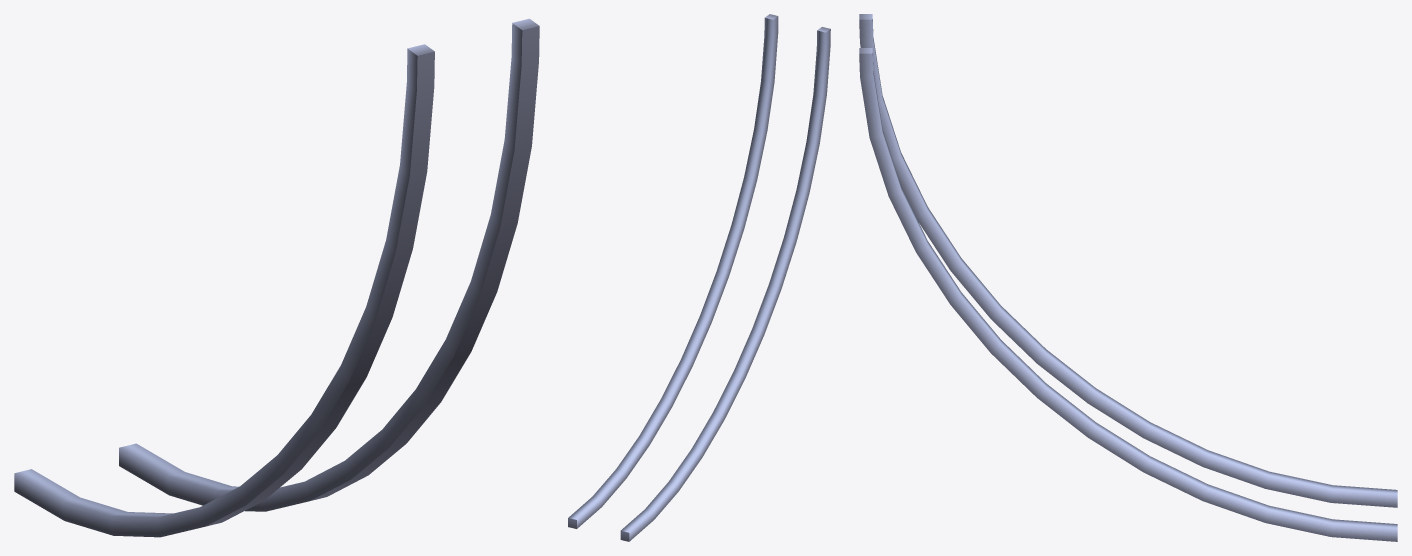
Rendered from kenney-train-railroad-rail-straight-bend-large.glb.
The picture shows the model from 3 angles, left to right: view 1: azimuth 30°, elevation 25°; view 2: azimuth 150°, elevation 25°; view 3: azimuth 270°, elevation 25°; orthographic projection. The views are drawn at different scales.
Visible parts, largest first — view 1: railroad-rail-straight-bend-large; view 2: railroad-rail-straight-bend-large; view 3: railroad-rail-straight-bend-large.
Part boxes in pixels (x1,y1,x2,y2): railroad-rail-straight-bend-large: (14, 18, 539, 537); railroad-rail-straight-bend-large: (568, 14, 830, 541); railroad-rail-straight-bend-large: (859, 14, 1397, 541).
Bounding box in the file's own units: 0.6997 × 4 × 4.
1 material, 1 textured.
